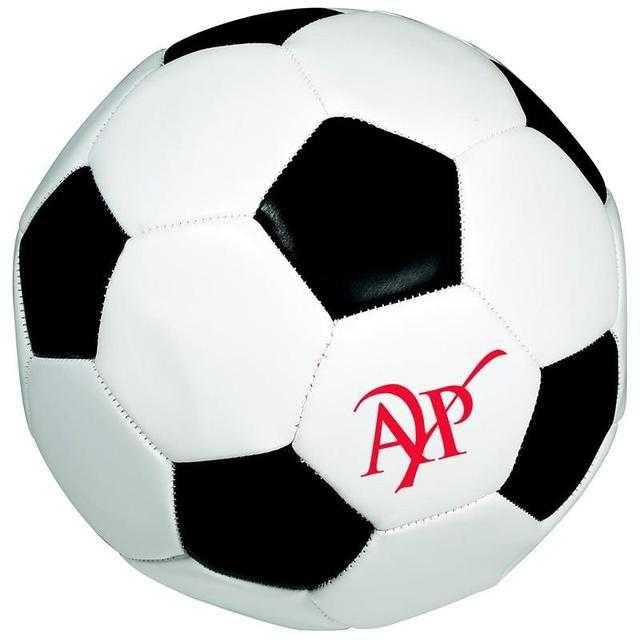ball: (14, 8, 625, 632)
